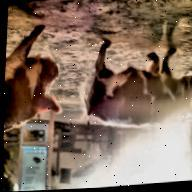boar: (74, 35, 192, 134), (3, 24, 66, 133)
